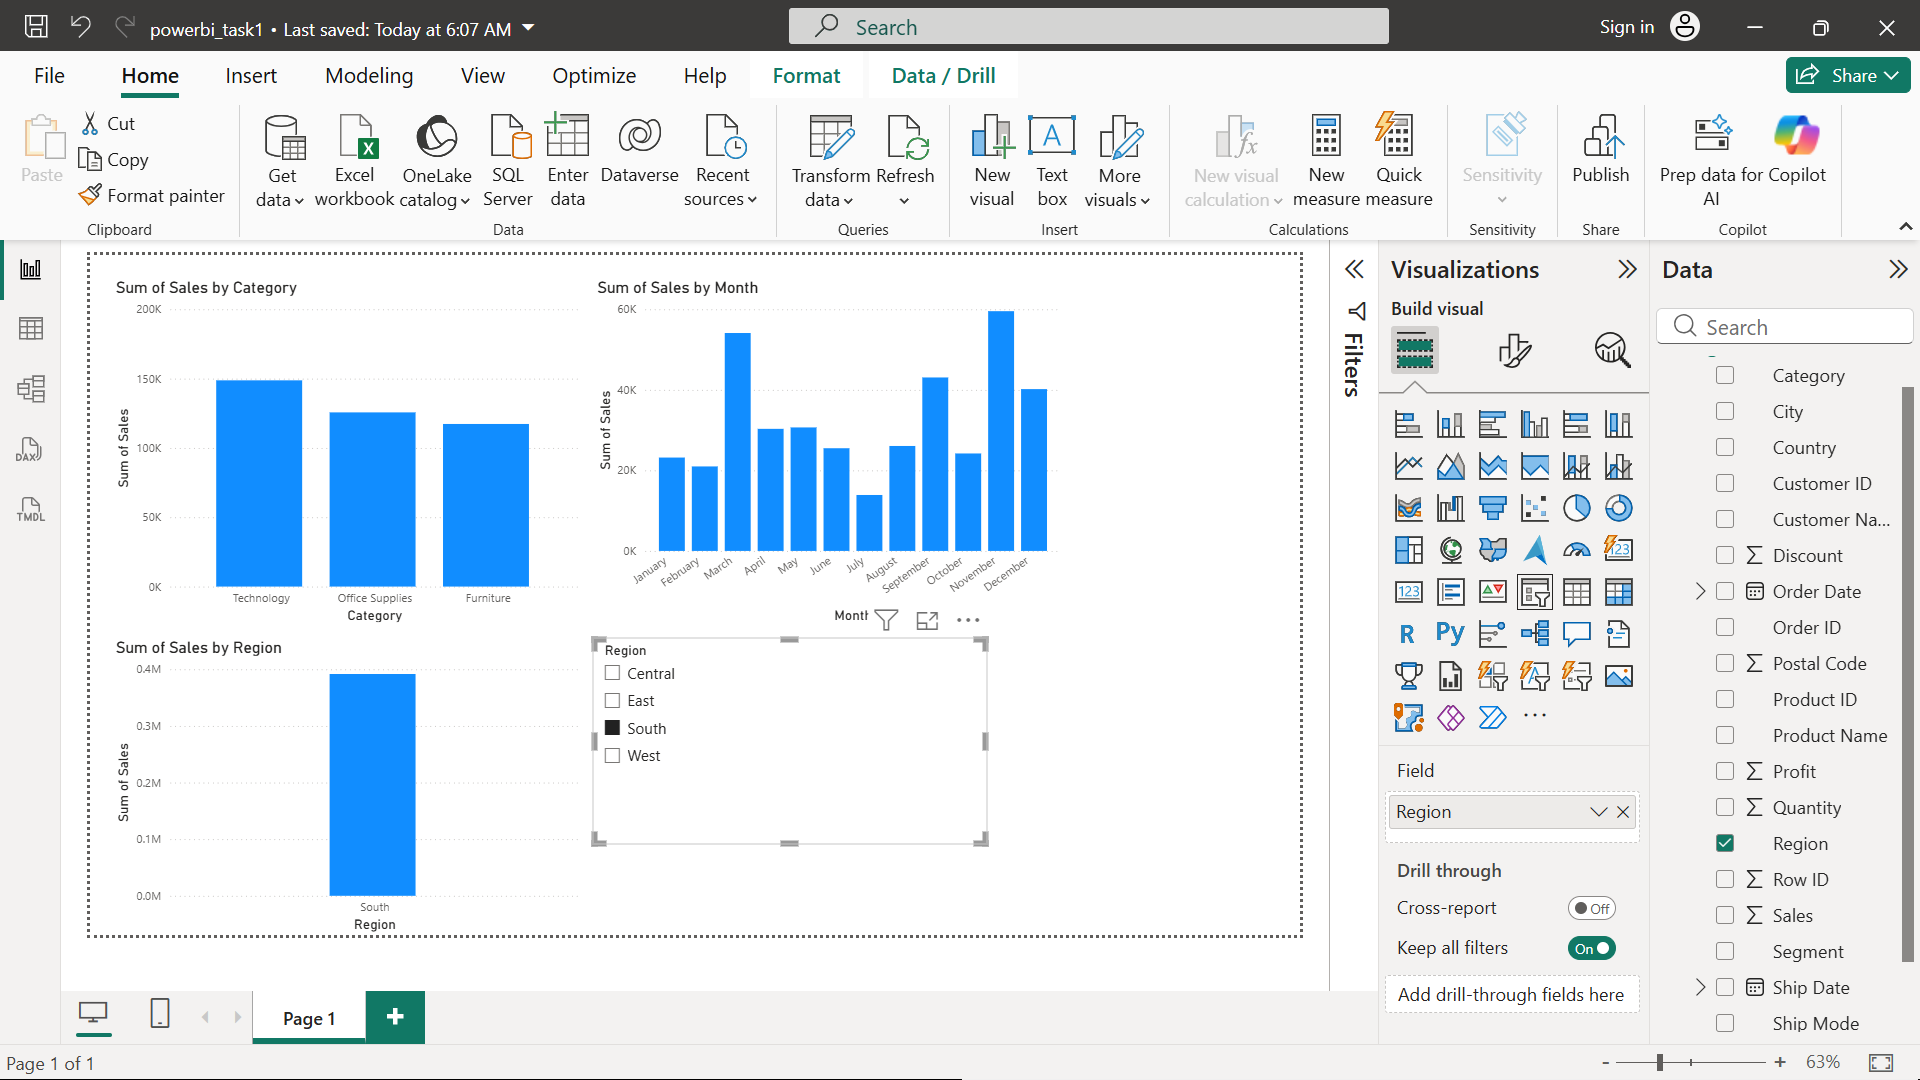

This screenshot's page, from the dashboard's own definition file:
{"tool":"powerbi","page":{"name":"Page 1","canvas":[1280,720],"ordinal":0},"visuals":[{"type":"clusteredColumnChart","fields":{"Y":["Sum(Sample - Superstore.Sales)"],"Category":["Sample - Superstore.Category"]},"box":[22.4,23.7,500,369.7],"z":0},{"type":"clusteredColumnChart","fields":{"Y":["Sum(Sample - Superstore.Sales)"],"Category":["Sample - Superstore.Region"]},"box":[22,404,500,316],"z":1000},{"type":"clusteredColumnChart","fields":{"Y":["Sum(Sample - Superstore.Sales)"],"Category":["Sample - Superstore.Order Date.Variation.Date Hierarchy.Month"]},"box":[532,24,500,370],"z":2000},{"type":"slicer","fields":{"Values":["Sample - Superstore.Region"]},"box":[531.7,404.8,417.5,219],"z":3000}]}

Visuals, with their boxes on the page's 1280x720 design canvas (x1, y1, x2, y2). These are canvas units, not pixel positions in the 1920x1080 screenshot, which may show the page scaled, cropped or inside an application window:
clusteredColumnChart - Sum(Sample - Superstore.Sales) x Sample - Superstore.Category: 22/24/522/393
clusteredColumnChart - Sum(Sample - Superstore.Sales) x Sample - Superstore.Region: 22/404/522/720
clusteredColumnChart - Sum(Sample - Superstore.Sales) x Sample - Superstore.Order Date.Variation.Date Hierarchy.Month: 532/24/1032/394
slicer - Sample - Superstore.Region: 532/405/949/624
